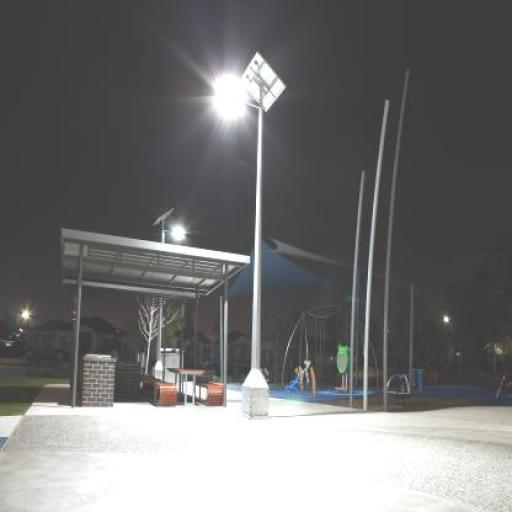street light: (218, 79, 269, 419), (152, 228, 186, 387), (432, 316, 449, 376), (21, 309, 29, 361)
